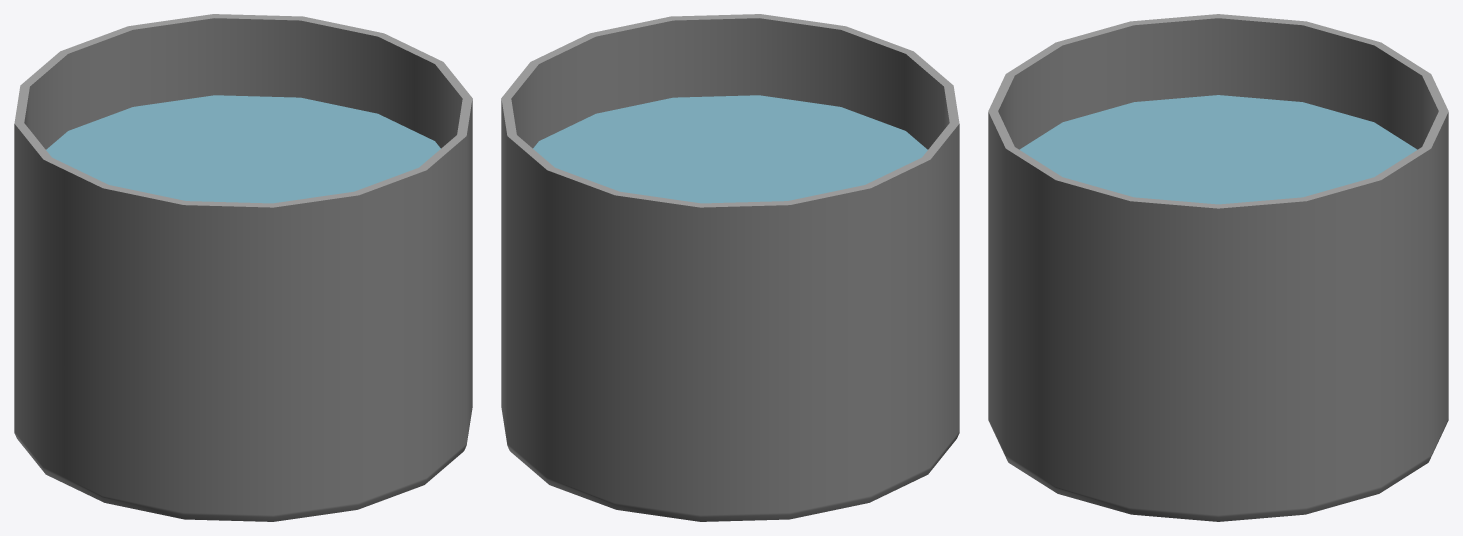
File: PotWithWater.fbx
3 views of the same model, side by side, from view 1: azimuth 30°, elevation 25°; view 2: azimuth 150°, elevation 25°; view 3: azimuth 270°, elevation 25° (orthographic).
Parts seen in each view (by area): view 1: pCylinder5; view 2: pCylinder5; view 3: pCylinder5.
Boxes of the visible parts, left/top/right/bottom form: pCylinder5: left=14, top=14, right=472, bottom=521; pCylinder5: left=501, top=14, right=959, bottom=521; pCylinder5: left=988, top=14, right=1448, bottom=521.
Size of the model in its own units: 1.2 by 0.9112 by 1.2.
